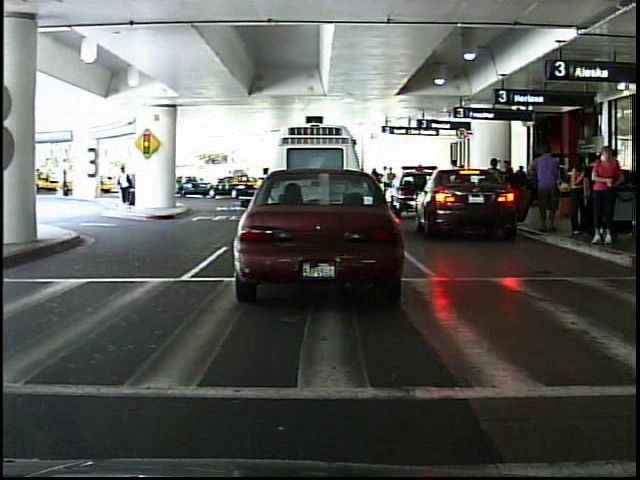person: (589, 142, 625, 250), (110, 159, 142, 211), (60, 163, 75, 202)
